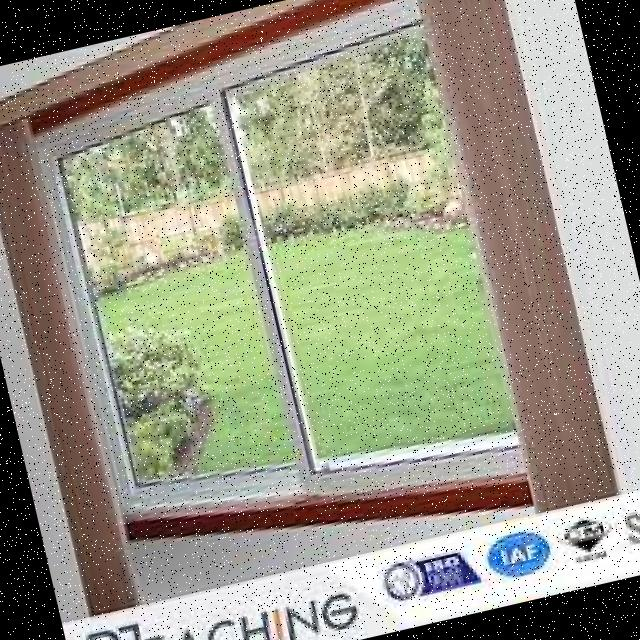Window: (2, 0, 595, 595)
